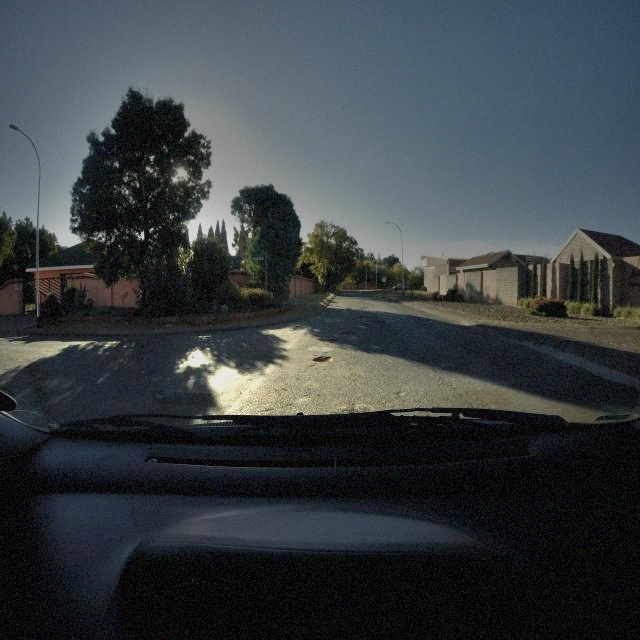pothole: (310, 353, 335, 364), (317, 336, 339, 344), (337, 329, 357, 337), (372, 318, 388, 325), (356, 314, 368, 320)
